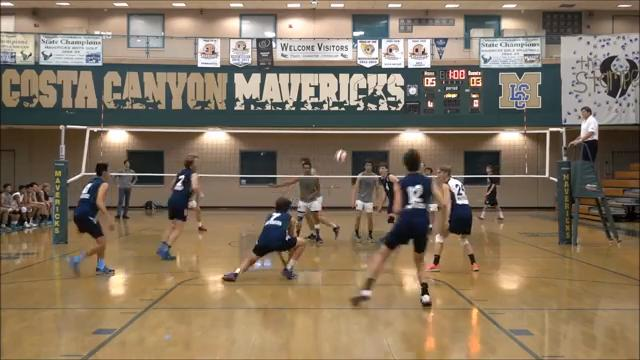Player: (351, 149, 443, 305), (427, 166, 478, 271), (69, 163, 114, 274), (156, 155, 199, 260), (269, 160, 322, 243), (352, 160, 377, 241), (479, 165, 503, 219), (378, 163, 397, 223), (317, 190, 339, 237), (193, 192, 207, 231)
Receive: (217, 188, 306, 282)
ball: (334, 149, 348, 163)
